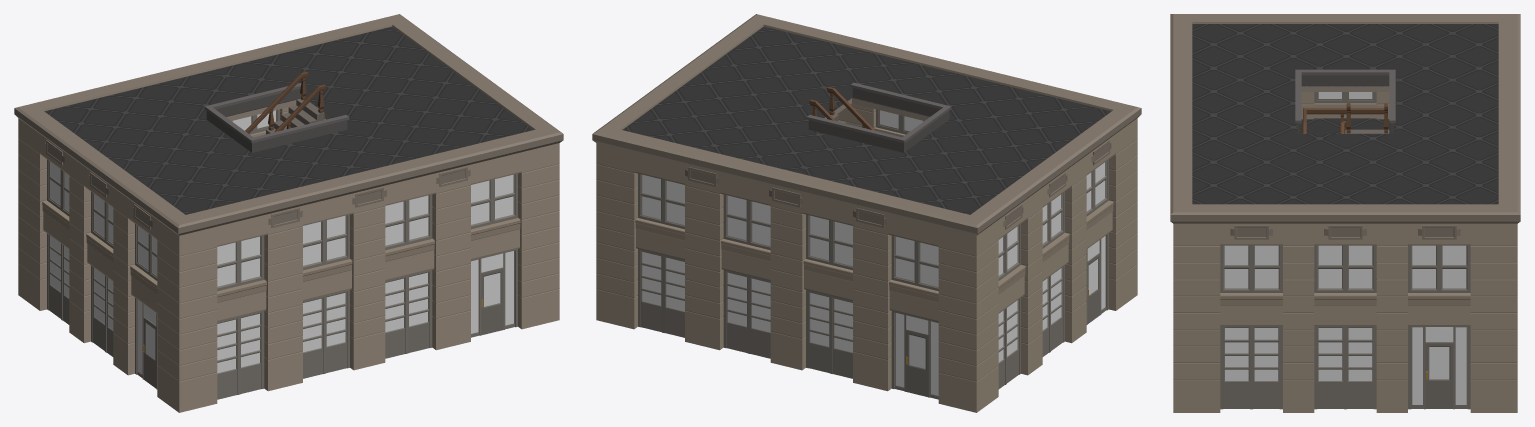
File: SM_Bldg_City_High-Rise_06_Base.fbx
The picture shows the model from 3 angles, left to right: view 1: azimuth 30°, elevation 25°; view 2: azimuth 150°, elevation 25°; view 3: azimuth 270°, elevation 25°; orthographic projection. The views are drawn at different scales.
Visible parts, largest first — view 1: SM_Bldg_City_High-Rise_06_Base, SM_Bldg_City_High-Rise_06_Base_Glass; view 2: SM_Bldg_City_High-Rise_06_Base, SM_Bldg_City_High-Rise_06_Base_Glass; view 3: SM_Bldg_City_High-Rise_06_Base, SM_Bldg_City_High-Rise_06_Base_Glass.
Part boxes in pixels (box(x1,y1,x2,y2)): SM_Bldg_City_High-Rise_06_Base: box(14, 14, 563, 412); SM_Bldg_City_High-Rise_06_Base_Glass: box(50, 110, 513, 374); SM_Bldg_City_High-Rise_06_Base: box(592, 14, 1141, 412); SM_Bldg_City_High-Rise_06_Base_Glass: box(642, 110, 1105, 395); SM_Bldg_City_High-Rise_06_Base: box(1170, 14, 1520, 412); SM_Bldg_City_High-Rise_06_Base_Glass: box(1224, 92, 1466, 404).
Size of the model in its own units: 1520 by 800 by 1120.
